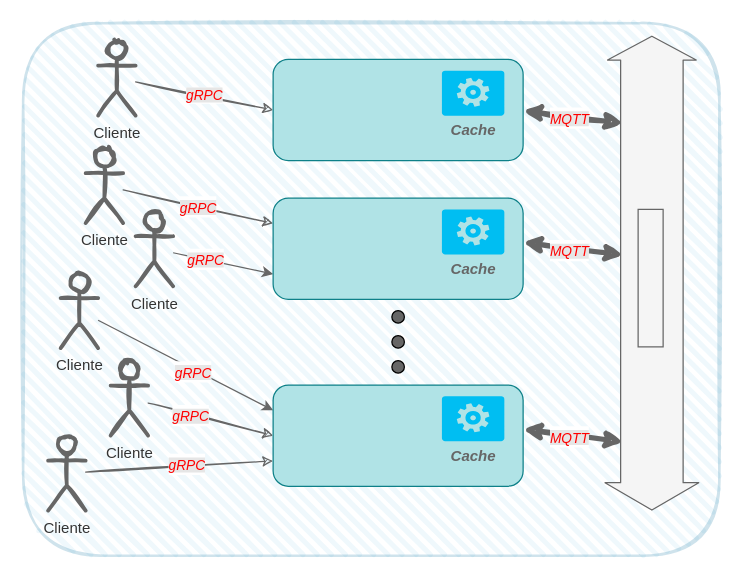
The diagram is 741 pixels wide and 578 high, and some of its shapes have lost their labels. Here are the shapes that lost their labels. From the top down, the box of each, then its label:
(272, 58, 523, 161): Servidor 1
(272, 197, 523, 299): Servidor 2
(637, 208, 663, 347): barramento pubsub
(272, 384, 523, 486): Servidor N
